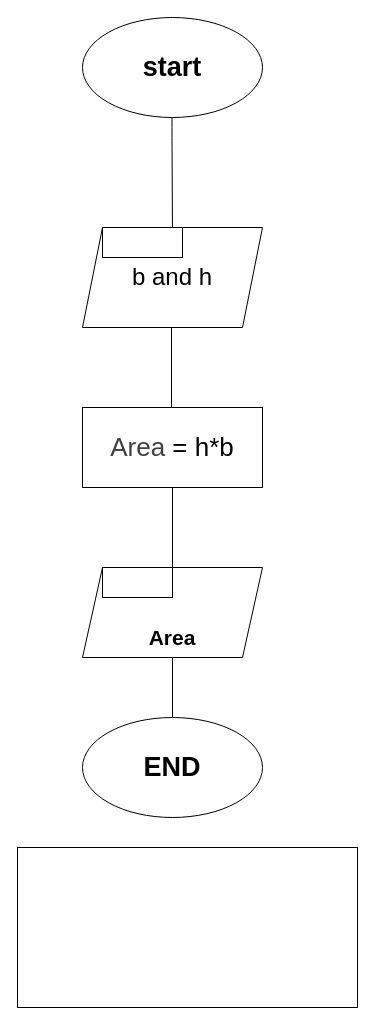
This 375x1025 diagram has some shape labels left out. The shapes that lost their labels are listed below. From the top down, each one's centre as x and y in pixels, then its label:
At point 142,242: "read".
At point 137,582: "write".
At point 187,927: "Start read base and height Area = base * height write area End".
